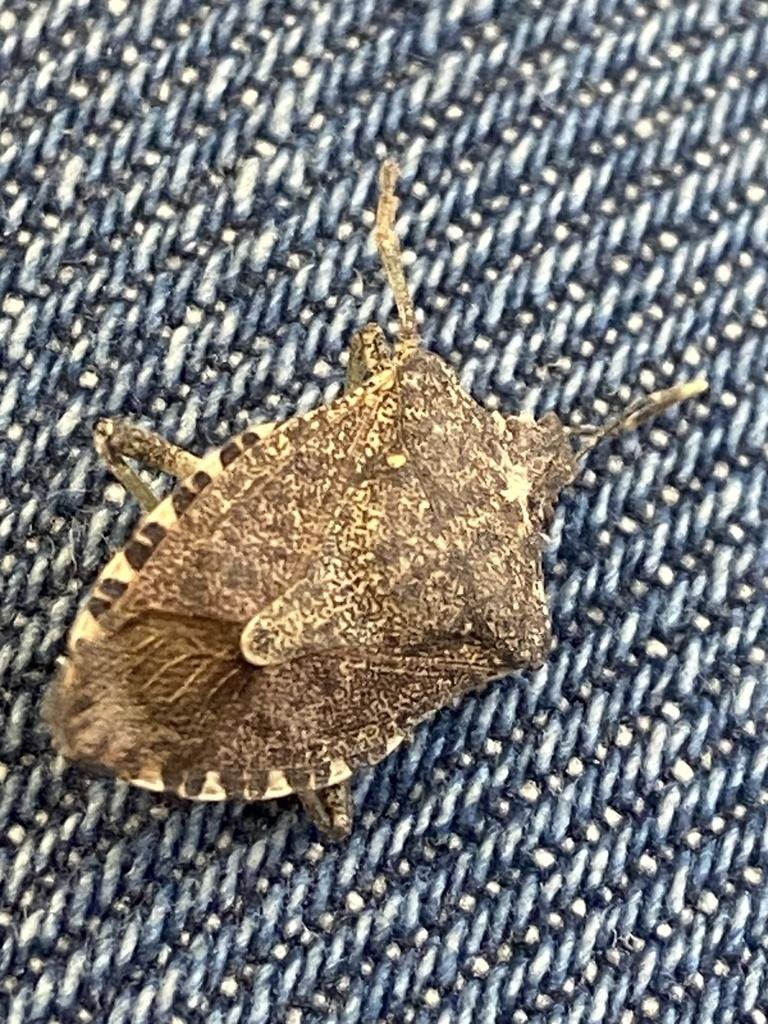stink_bugs: (0, 47, 768, 993)
